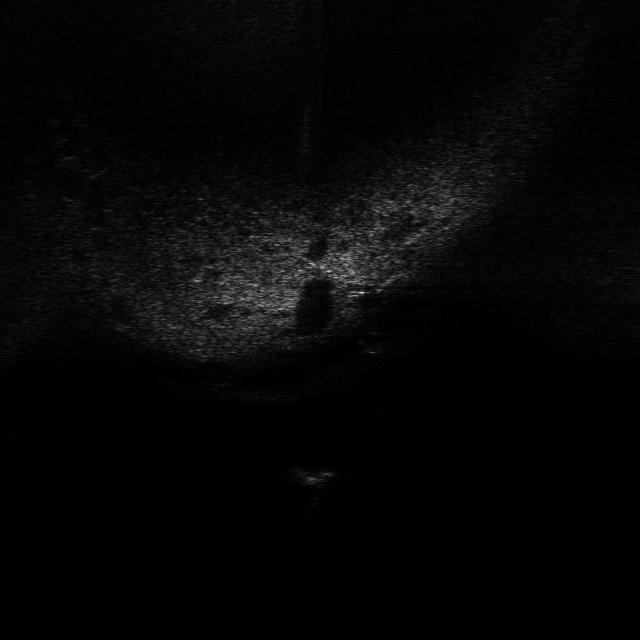ball: (352, 328, 393, 355)
cube: (283, 467, 339, 490)
